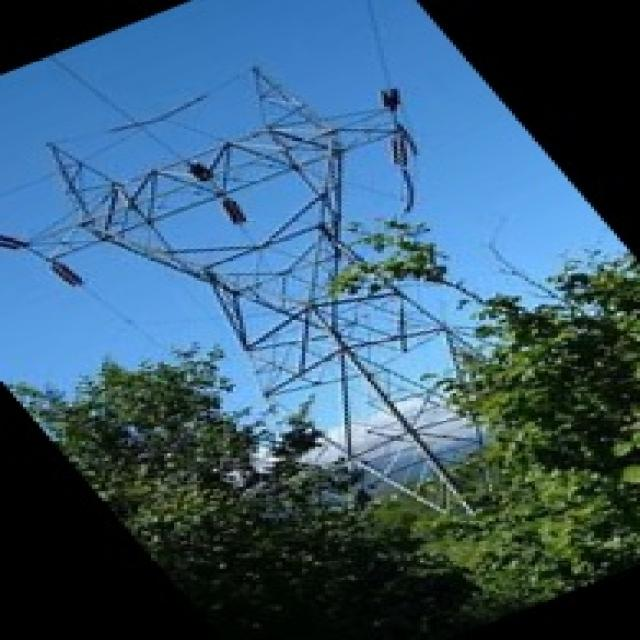utility poles: (106, 342, 373, 524), (374, 216, 601, 389)
